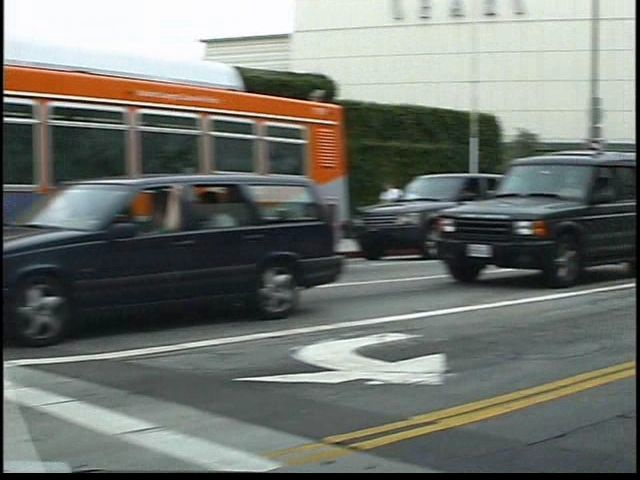person: (397, 177, 426, 244)
